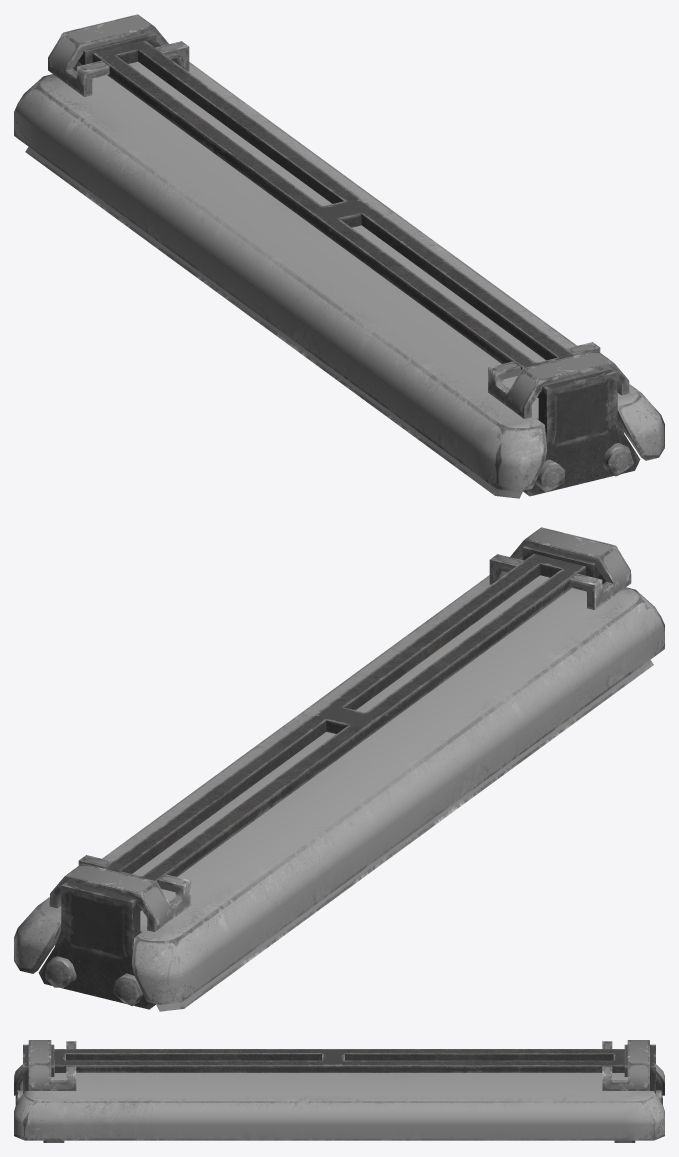
The model's file is SM_Ceiling_Lamp.fbx.
3 renders of one model, top to bottom at view 1: azimuth 30°, elevation 25°; view 2: azimuth 150°, elevation 25°; view 3: azimuth 270°, elevation 25°, orthographic. The views are drawn at different scales.
Visible parts, largest first — view 1: SM_Ceiling_Lamp_LOD0; view 2: SM_Ceiling_Lamp_LOD0; view 3: SM_Ceiling_Lamp_LOD0.
Part boxes in pixels (box(x1,y1,x2,y2)): SM_Ceiling_Lamp_LOD0: box(14, 14, 664, 498); SM_Ceiling_Lamp_LOD0: box(14, 527, 664, 1011); SM_Ceiling_Lamp_LOD0: box(14, 1040, 664, 1142).
Bounding box in the file's own units: 34.03 × 175 × 23.18.
Materials: 1 (1 with a texture image).
